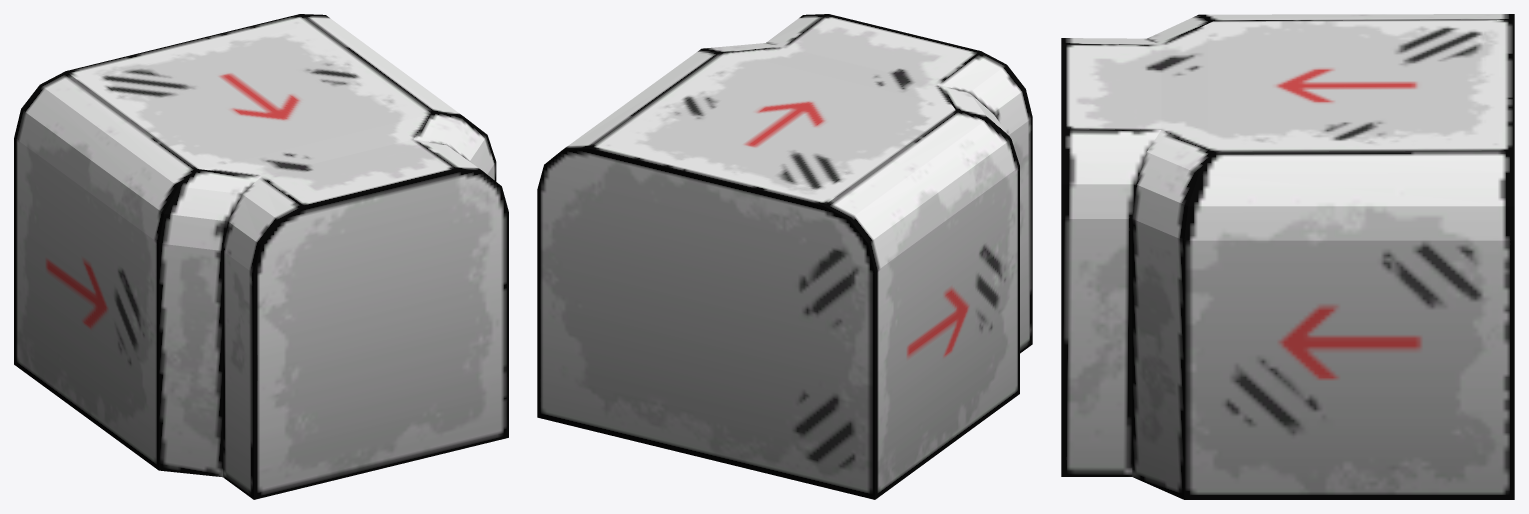
The model's file is OneWaySignalGate.obj.
3 renders of one model, left to right at view 1: azimuth 30°, elevation 25°; view 2: azimuth 150°, elevation 25°; view 3: azimuth 270°, elevation 25°, orthographic. The views are drawn at different scales.
Parts seen in each view (by area): view 1: UnaryMathGate; view 2: UnaryMathGate; view 3: UnaryMathGate.
Part boxes in pixels (bbox=[...]): UnaryMathGate: bbox=[14, 14, 508, 499]; UnaryMathGate: bbox=[537, 14, 1032, 499]; UnaryMathGate: bbox=[1061, 14, 1514, 499].
Size of the model in its own units: 0.1888 by 0.1502 by 0.1925.
Materials: 1 (1 with a texture image).
